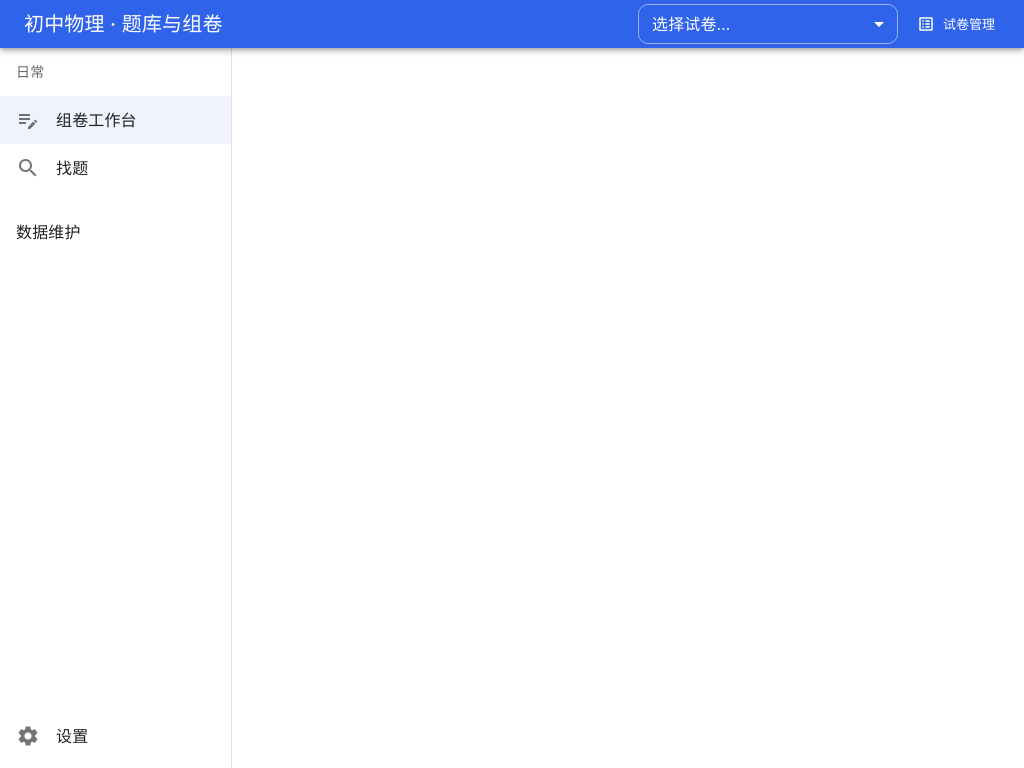
Test case: Drawer 可访问名（P5-3） › 「试卷管理」抽屉打开后，可见标题被 aria-labelledby 引用（Drawer 不自动派生）
This screenshot has width=1024, height=768.
Note: 桌面宽度下触发控件是文字按钮「试卷列表」（窄屏才是同名 IconButton）。
Click the button "试卷管理" at (957, 24), box [914, 9, 1000, 39]
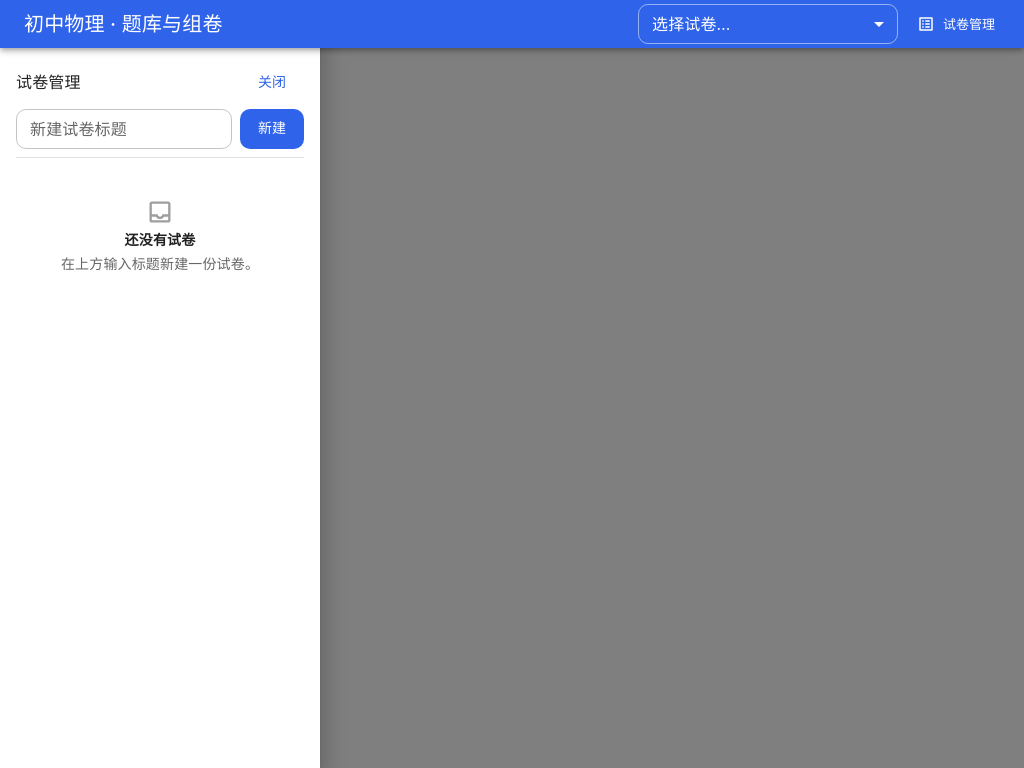
expect the dialog is shown: met, box [0, 0, 320, 767]
